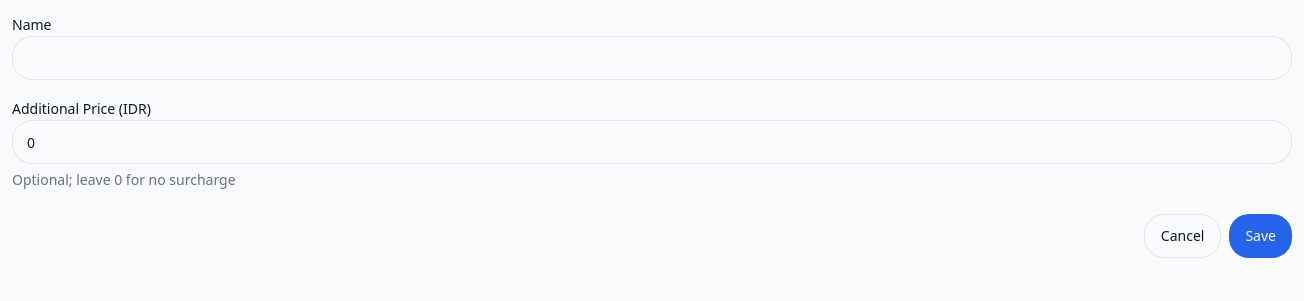
Test: OrderOptionForm › shows validation errors for invalid input
Click the button "Save". click: (1261, 236)
box: [1229,214,1292,258]
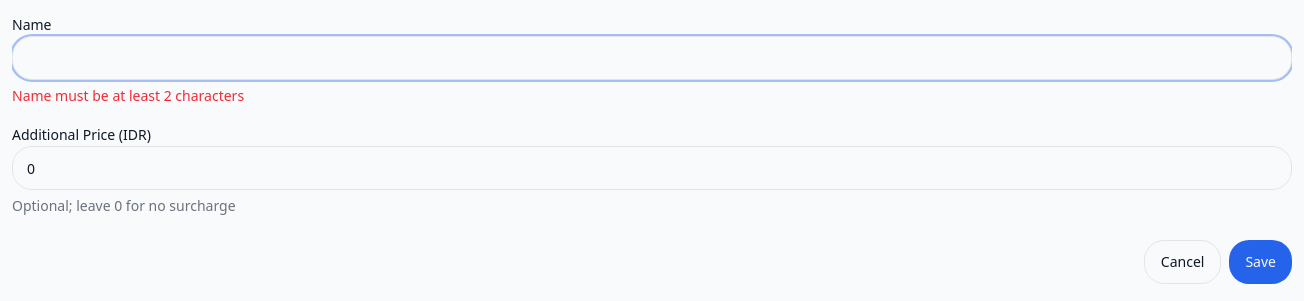
Expected: the text "Name must be at least 2 characters" is shown, [12,86,244,105]
